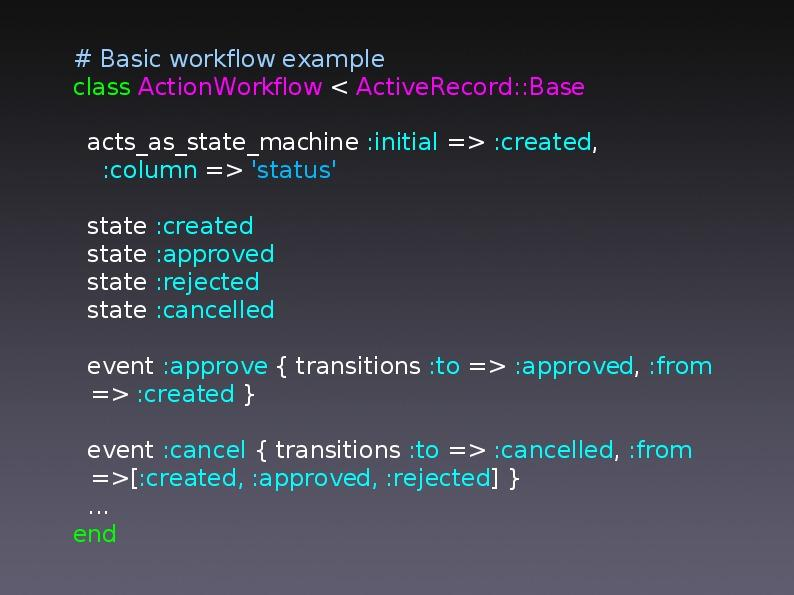paragraph: (64, 39, 724, 551)
